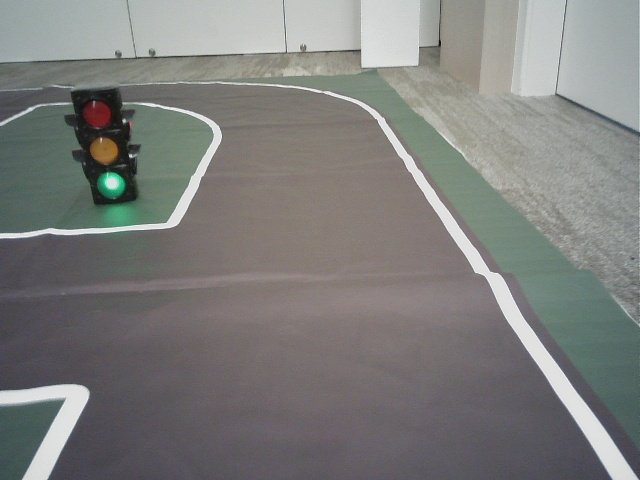green: (78, 95, 130, 199)
